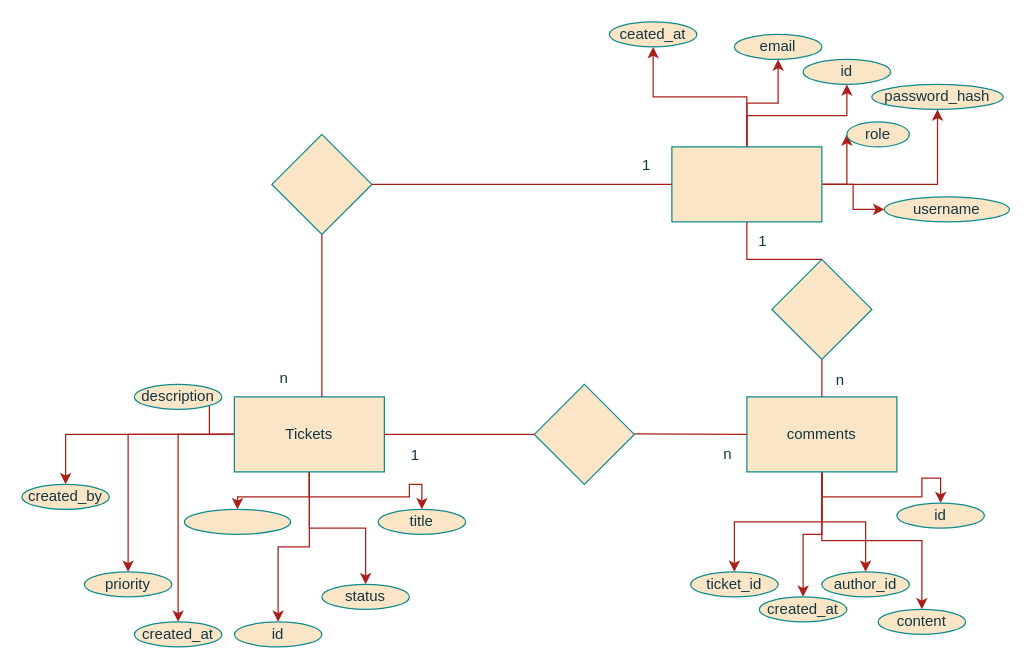
Some shapes in this 1031 by 669 pixel diagram are drawn without their labels. The centre of each missing label's shape, as x and y in pixels:
assigned_to: point 237,521
creates: point 321,183
reference: point 583,433
Users: point 746,184
writes: point 821,308
